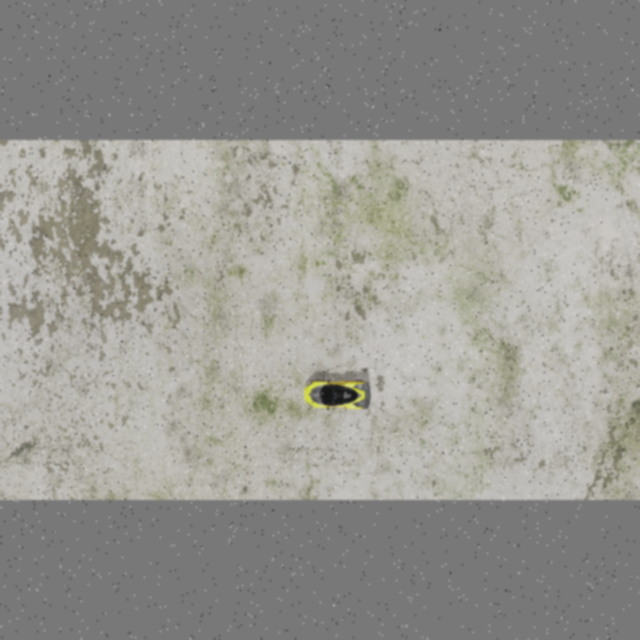car: (302, 379, 370, 412)
